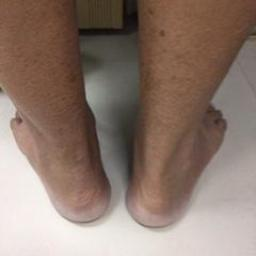Back View -Both Feet-: (1, 60, 239, 234)
